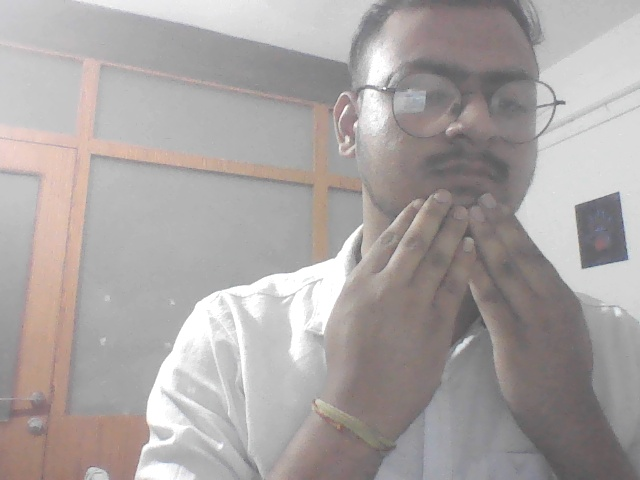ThankYou: (305, 181, 628, 453)
